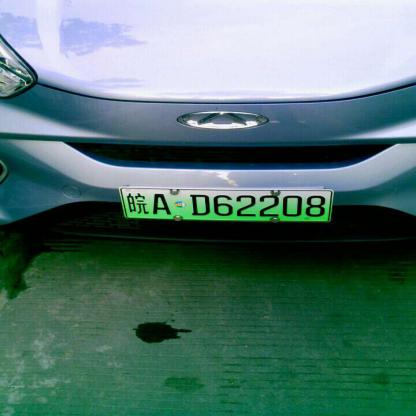lp: (119, 187, 333, 220)
